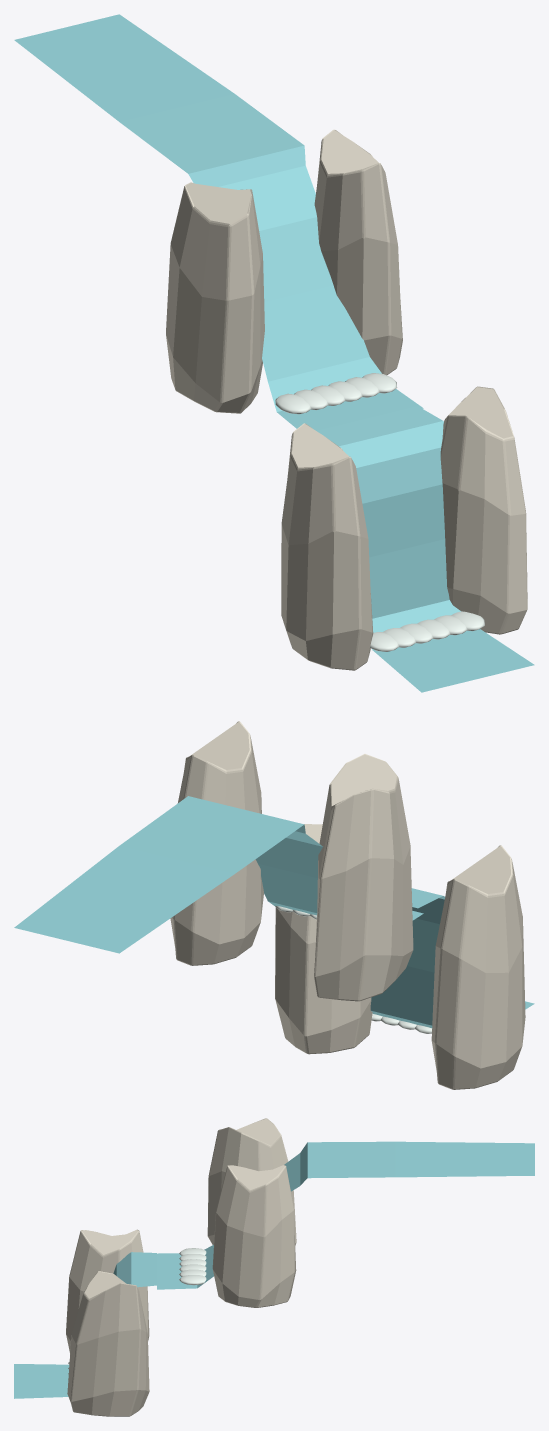
The model's file is Test_CheonRef_WaterfallStream.fbx.
The picture shows the model from 3 angles, top to bottom: view 1: azimuth 30°, elevation 25°; view 2: azimuth 150°, elevation 25°; view 3: azimuth 270°, elevation 25°; orthographic projection. The views are drawn at different scales.
Visible parts, largest first — view 1: CurvedWaterfallSheet, CurvedWaterfallSheet.001, WaterfallBankRock, WaterfallBankRock.002, WaterfallBankRock.003, WaterfallBankRock.001; view 2: CurvedWaterfallSheet, WaterfallBankRock, WaterfallBankRock.002, WaterfallBankRock.001, WaterfallBankRock.003, CurvedWaterfallSheet.001; view 3: WaterfallBankRock.001, CurvedWaterfallSheet, WaterfallBankRock.003, WaterfallBankRock, WaterfallBankRock.002, CurvedWaterfallSheet.001.
Part boxes in pixels (<box>): CurvedWaterfallSheet: <box>14,14,423,430</box>; CurvedWaterfallSheet.001: <box>317,406,534,692</box>; WaterfallBankRock: <box>166,182,264,413</box>; WaterfallBankRock.002: <box>281,423,373,670</box>; WaterfallBankRock.003: <box>440,386,527,634</box>; WaterfallBankRock.001: <box>314,129,402,375</box>; CurvedWaterfallSheet: <box>14,796,423,953</box>; WaterfallBankRock: <box>314,754,413,1001</box>; WaterfallBankRock.002: <box>431,845,525,1089</box>; WaterfallBankRock.001: <box>170,721,263,965</box>; WaterfallBankRock.003: <box>275,824,372,1054</box>; CurvedWaterfallSheet.001: <box>370,888,534,1028</box>; WaterfallBankRock.001: <box>212,1165,296,1307</box>; CurvedWaterfallSheet: <box>157,1141,534,1289</box>; WaterfallBankRock.003: <box>67,1271,149,1416</box>; WaterfallBankRock: <box>207,1118,296,1245</box>; WaterfallBankRock.002: <box>66,1229,149,1353</box>; CurvedWaterfallSheet.001: <box>14,1252,156,1398</box>.
Bounding box in the file's own units: 436 × 727 × 1420.
